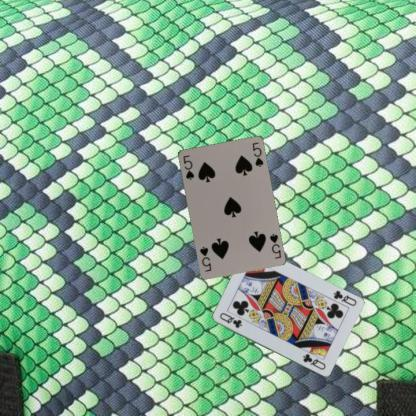5s: (180, 152, 196, 181), (267, 231, 282, 260)
Qc: (330, 288, 358, 307), (216, 310, 242, 330)
